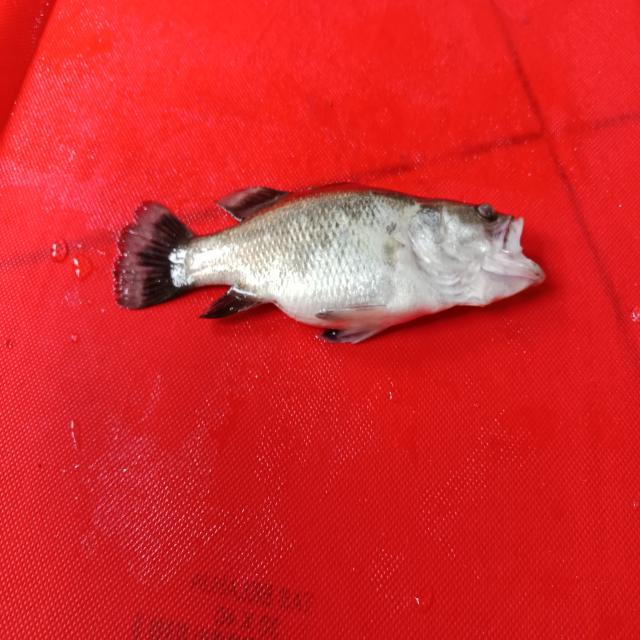ikan: (110, 152, 566, 364)
